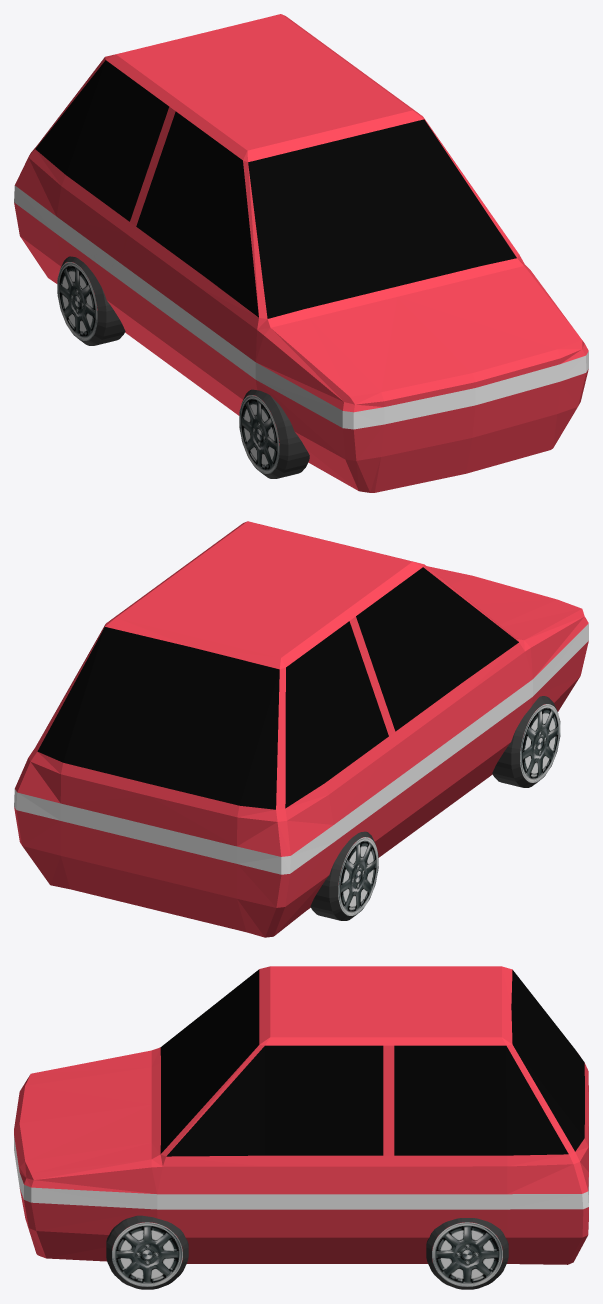
File: car.obj
3 renders of one model, top to bottom at view 1: azimuth 30°, elevation 25°; view 2: azimuth 150°, elevation 25°; view 3: azimuth 270°, elevation 25°, orthographic. The views are drawn at different scales.
Visible parts, largest first — view 1: body.001, wheel_topright.001, wheel_bottomright.001; view 2: body.001, wheel_topright.001, wheel_bottomright.001; view 3: body.001, wheel_topleft.001, wheel_bottomleft.001.
Boxes of the visible parts, bbox=[...] form: body.001: bbox=[14, 14, 588, 492]; wheel_topright.001: bbox=[239, 389, 309, 478]; wheel_bottomright.001: bbox=[57, 256, 125, 345]; body.001: bbox=[14, 521, 588, 937]; wheel_topright.001: bbox=[492, 696, 560, 787]; wheel_bottomright.001: bbox=[310, 831, 378, 920]; body.001: bbox=[14, 966, 588, 1264]; wheel_topleft.001: bbox=[106, 1215, 188, 1289]; wheel_bottomleft.001: bbox=[426, 1218, 508, 1289].
Size of the model in its own units: 5.06 by 4.5 by 10.2.
